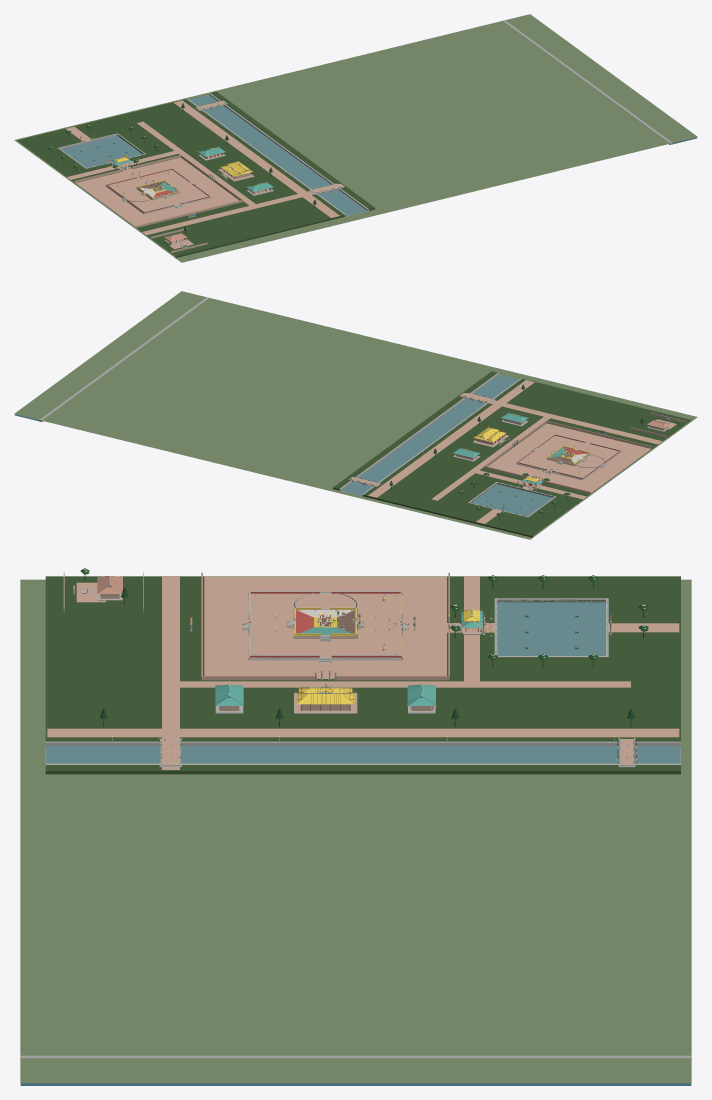
File: T20_kim_thuy_tay_bac_xa_tac.glb
3 renders of one model, top to bottom at view 1: azimuth 30°, elevation 25°; view 2: azimuth 150°, elevation 25°; view 3: azimuth 270°, elevation 25°, orthographic. The views are drawn at different scales.
Visible parts, largest first — view 1: T20_V2_Satellite_Seamless_Base, T20_Static_Root_v01; view 2: T20_V2_Satellite_Seamless_Base, T20_Static_Root_v01; view 3: T20_V2_Satellite_Seamless_Base, T20_Static_Root_v01.
Part boxes in pixels (x1,y1,x2,y2): T20_V2_Satellite_Seamless_Base: (14,14,697,262); T20_Static_Root_v01: (17,91,375,257); T20_V2_Satellite_Seamless_Base: (14,291,697,539); T20_Static_Root_v01: (333,371,691,537); T20_V2_Satellite_Seamless_Base: (20,579,691,1085); T20_Static_Root_v01: (45,572,680,774).
Size of the model in its own units: 570 by 13.04 by 321.
